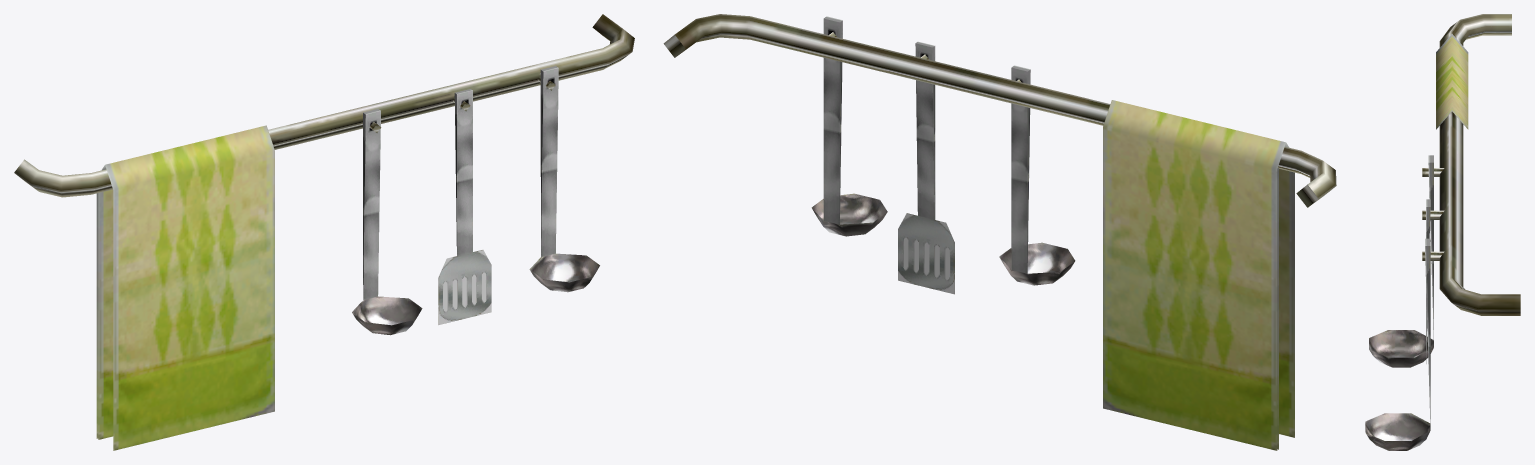
The model's file is furni_0200135_02.FBX.
3 views of the same model, side by side, from view 1: azimuth 30°, elevation 25°; view 2: azimuth 150°, elevation 25°; view 3: azimuth 270°, elevation 25° (orthographic). The views are drawn at different scales.
Parts seen in each view (by area): view 1: furni_0200135_02; view 2: furni_0200135_02; view 3: furni_0200135_02.
Boxes of the visible parts, x1,y1,x2,y2 form: furni_0200135_02: (14,14,634,450); furni_0200135_02: (663,14,1336,450); furni_0200135_02: (1365,14,1520,450).
Size of the model in its own units: 82.03 by 36.39 by 18.51.
1 material, 1 textured.
